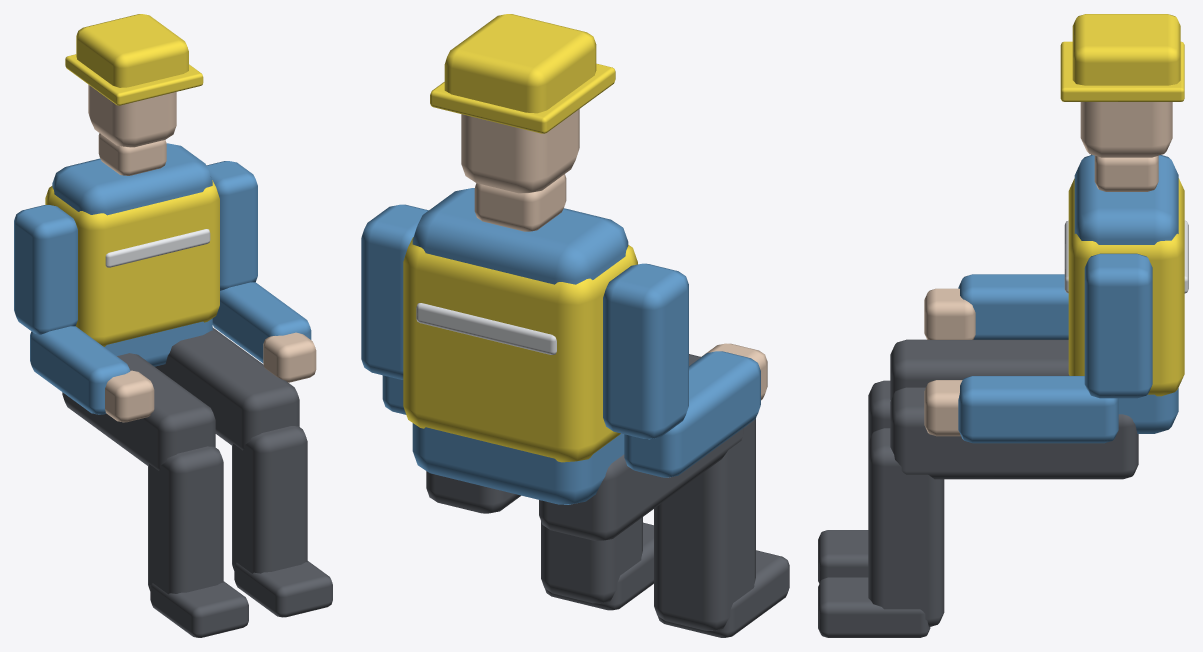
The model's file is seated-forklift-driver.glb.
3 renders of one model, left to right at view 1: azimuth 30°, elevation 25°; view 2: azimuth 150°, elevation 25°; view 3: azimuth 270°, elevation 25°, orthographic. The views are drawn at different scales.
Parts seen in each view (by area): view 1: seated-forklift-driver; view 2: seated-forklift-driver; view 3: seated-forklift-driver.
Boxes of the visible parts, x1,y1,x2,y2 form: seated-forklift-driver: (14,14,332,637); seated-forklift-driver: (361,14,789,637); seated-forklift-driver: (818,14,1188,637).
Size of the model in its own units: 0.75 by 1.57 by 0.925.
